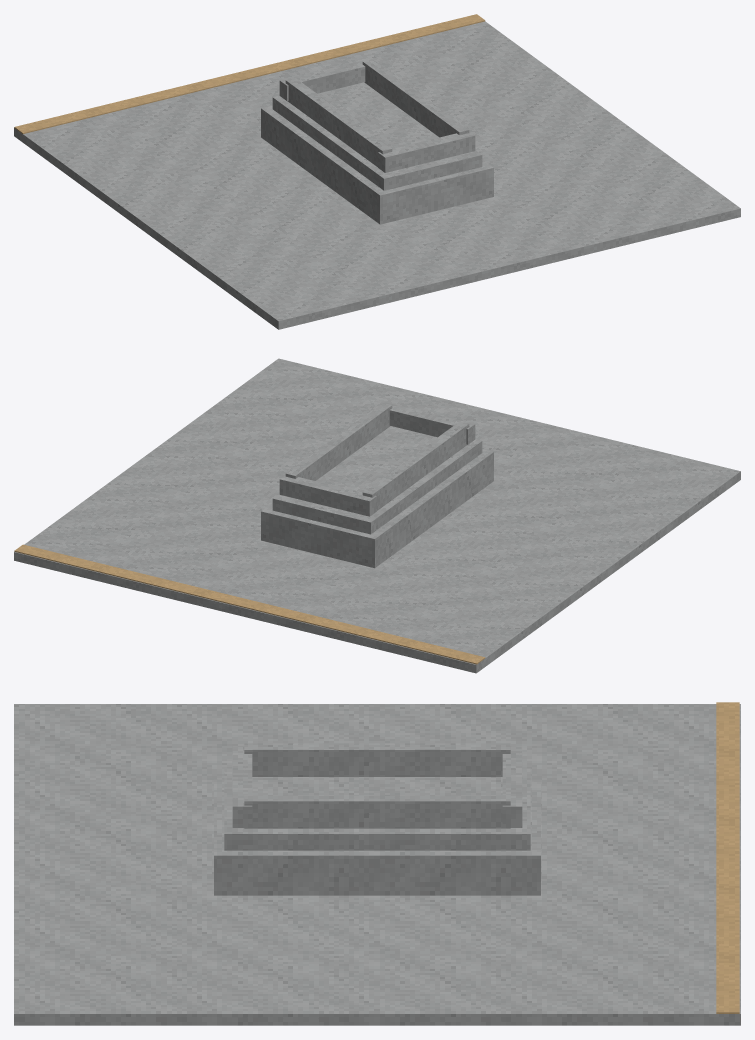
File: level_blockout_kit_wld_07_p05.glb
3 renders of one model, top to bottom at view 1: azimuth 30°, elevation 25°; view 2: azimuth 150°, elevation 25°; view 3: azimuth 270°, elevation 25°, orthographic. The views are drawn at different scales.
Visible parts, largest first — view 1: level_blockout_kit_wld_07_p05; view 2: level_blockout_kit_wld_07_p05; view 3: level_blockout_kit_wld_07_p05.
Boxes of the visible parts, x1,y1,x2,y2 form: level_blockout_kit_wld_07_p05: (14,14,740,329); level_blockout_kit_wld_07_p05: (14,358,740,673); level_blockout_kit_wld_07_p05: (14,702,740,1025).
Bounding box in the file's own units: 5.65 × 0.835 × 5.6.
2 materials, 2 textured.
